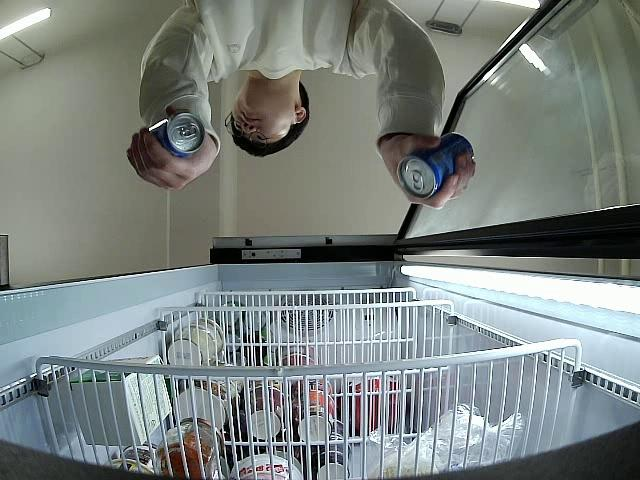00_hand: (126, 105, 215, 193), (381, 133, 477, 209)
15_letsbe: (397, 131, 474, 197), (141, 111, 206, 157)
